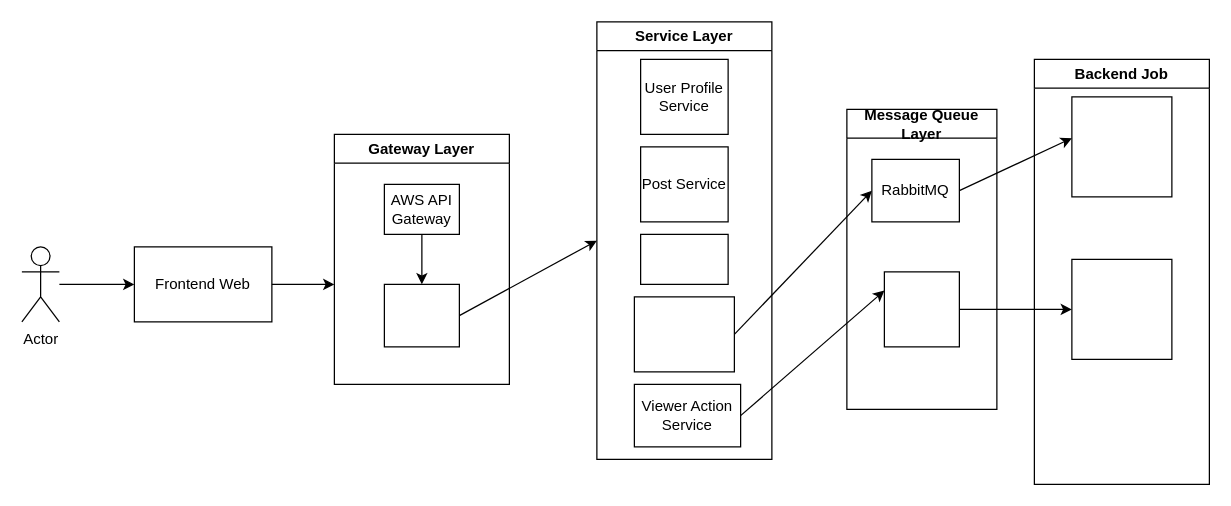
This 1231x506 diagram has some shape labels left out. Each missing label, with the centre of its shape:
"Comment Service" goes at point (683, 258).
"DataStream Cluster" goes at point (1121, 308).
"Kafka" goes at point (921, 309).
"Recommend System" goes at point (1121, 146).
"Spring Cloud Gateway" goes at point (421, 315).
"Viewer Feed Servie" goes at point (683, 334).
